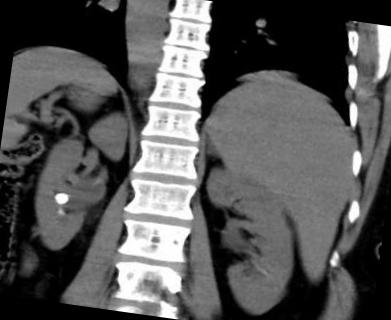Tas_Var: (48, 188, 72, 207), (54, 206, 66, 217)
